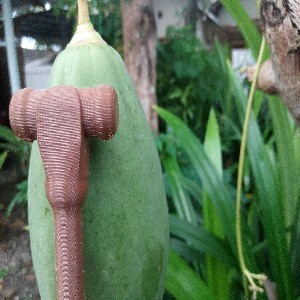palu: (9, 84, 119, 300)
